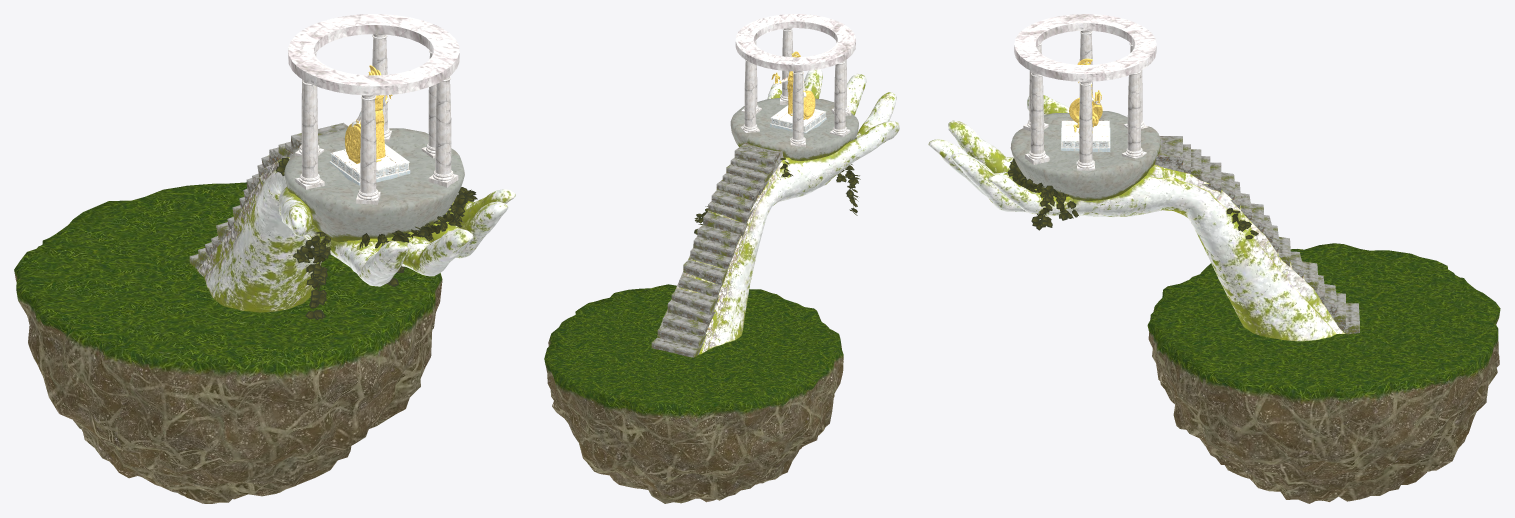
The model's file is temple.glb.
3 renders of one model, left to right at view 1: azimuth 30°, elevation 25°; view 2: azimuth 150°, elevation 25°; view 3: azimuth 270°, elevation 25°, orthographic. The views are drawn at different scales.
Visible parts, largest first — view 1: Temple; view 2: Temple; view 3: Temple.
Boxes of the visible parts, bbox=[...] form: Temple: bbox=[14, 14, 515, 503]; Temple: bbox=[544, 14, 899, 503]; Temple: bbox=[928, 14, 1500, 503].
Bounding box in the file's own units: 1.99 × 2.8 × 3.26.
9 materials, 9 textured.
